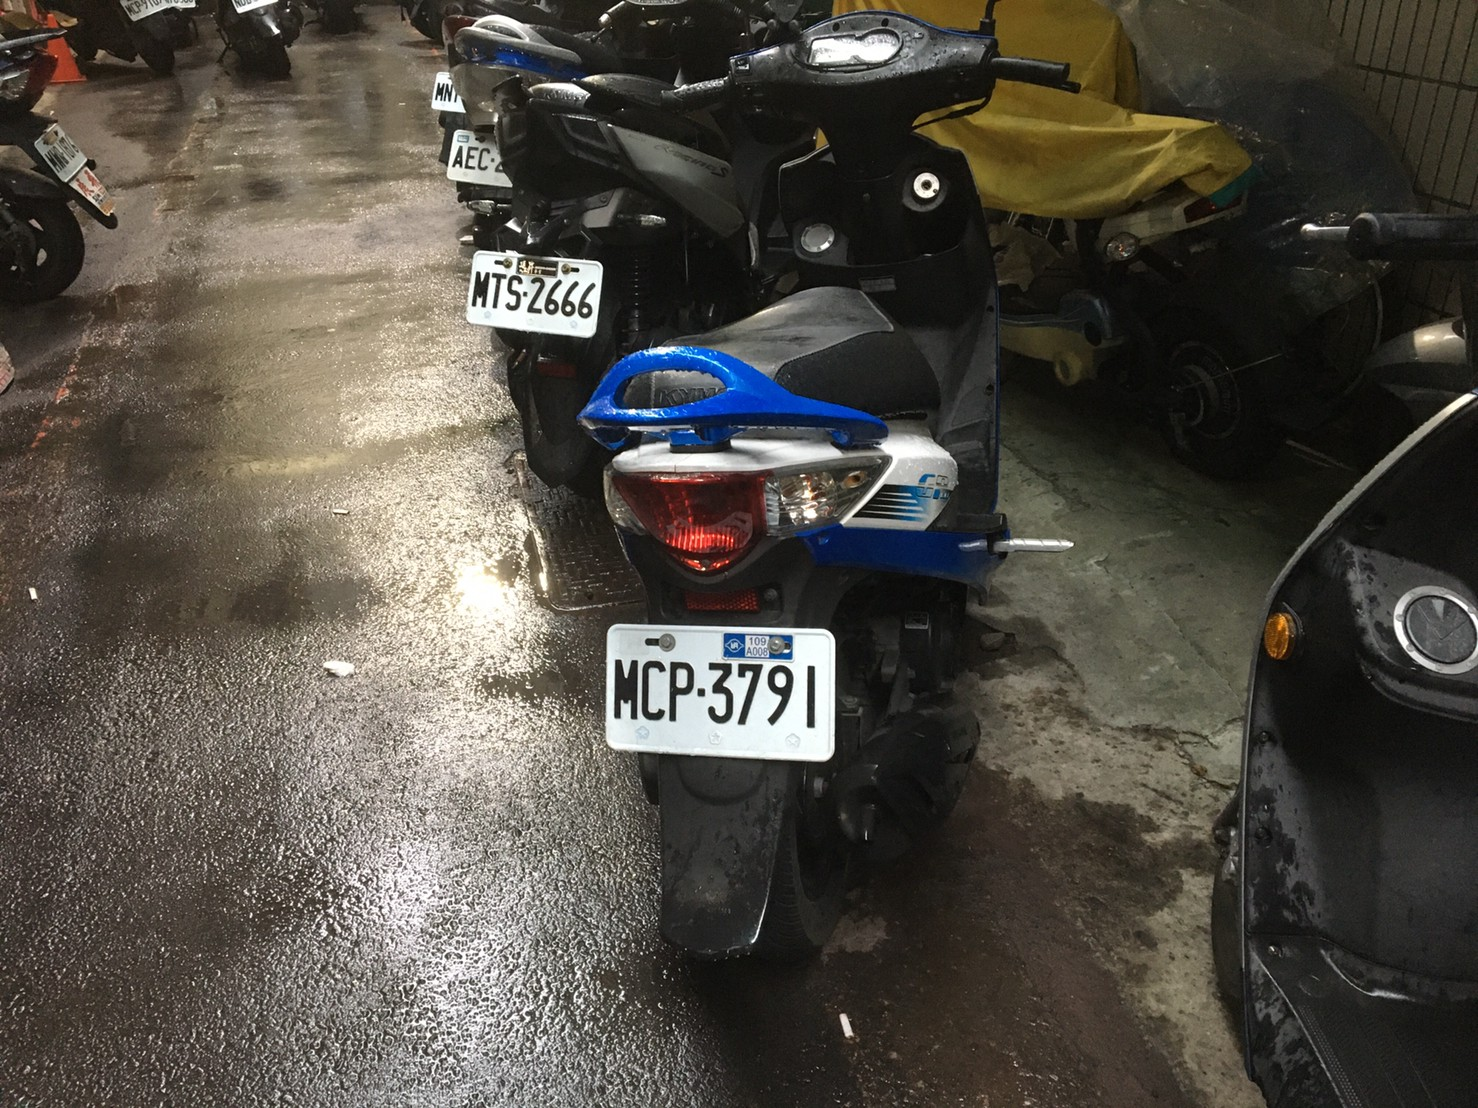LP: (611, 622, 834, 758), (471, 251, 603, 333), (31, 121, 91, 178), (452, 135, 511, 186), (432, 73, 467, 108), (121, 1, 170, 20)
